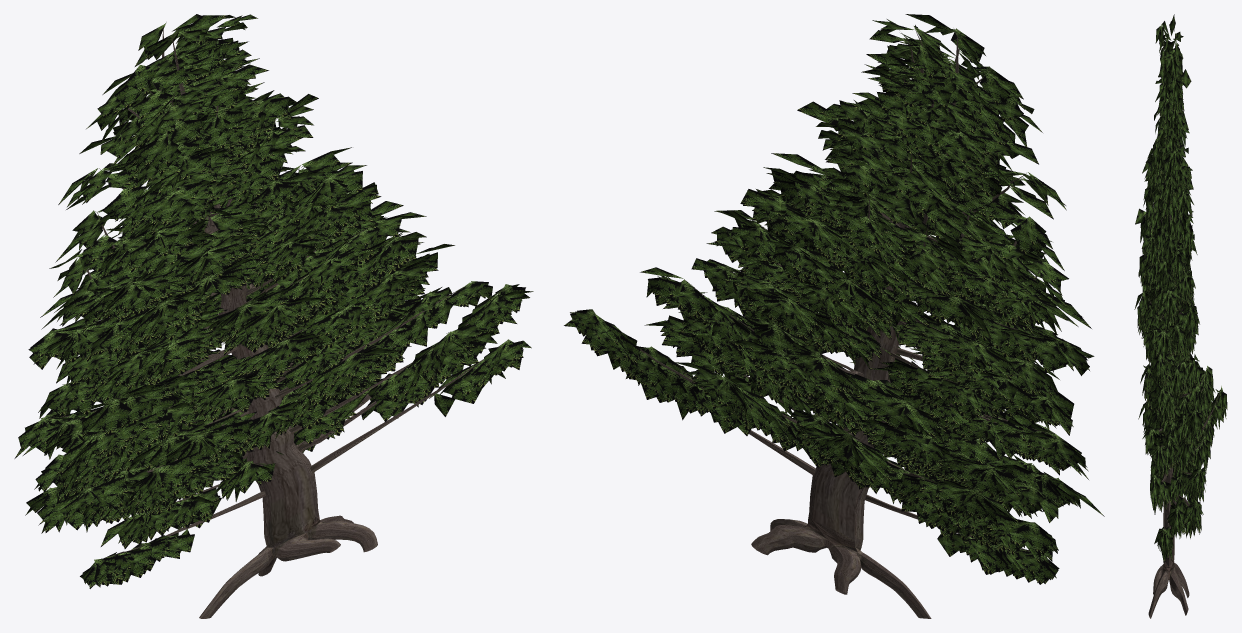
The model's file is needle2.obj.
3 renders of one model, left to right at view 1: azimuth 30°, elevation 25°; view 2: azimuth 150°, elevation 25°; view 3: azimuth 270°, elevation 25°, orthographic. The views are drawn at different scales.
Visible parts, largest first — view 1: (null).001; view 2: (null).001; view 3: (null).001.
Boxes of the visible parts, <box> form: (null).001: <box>14,14,533,618</box>; (null).001: <box>564,14,1104,618</box>; (null).001: <box>1134,14,1227,618</box>.
Bounding box in the file's own units: 711 × 790 × 121.
Materials: 4 (4 with a texture image).
